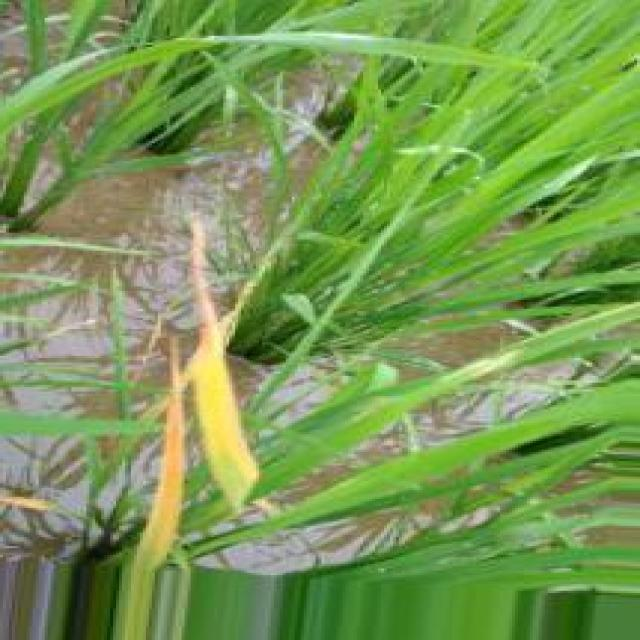Rice Tungro: (113, 333, 185, 640), (188, 215, 259, 508)
